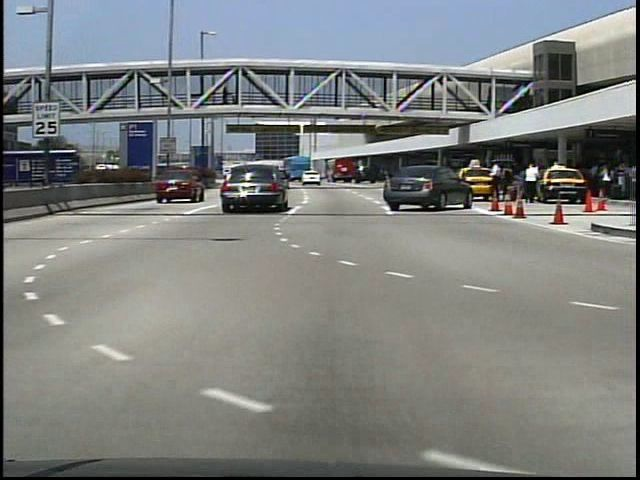person: (520, 159, 543, 204), (487, 162, 505, 204), (594, 162, 613, 201), (526, 161, 541, 203), (220, 87, 230, 109)
